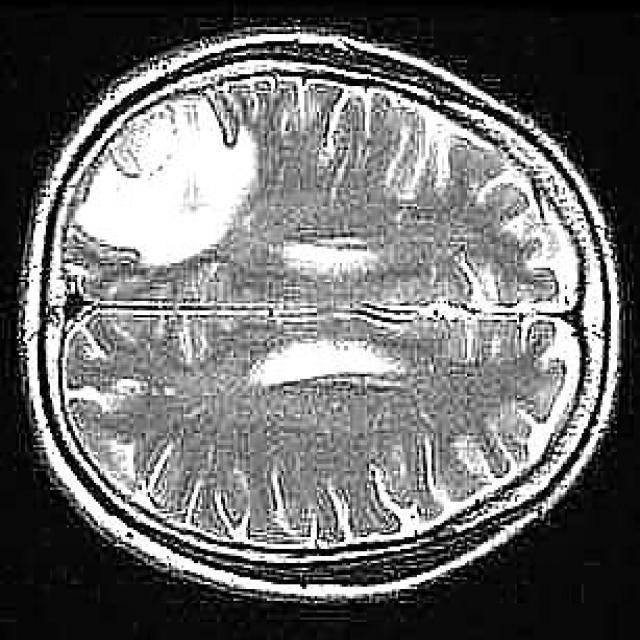tumor: (65, 87, 259, 276)
